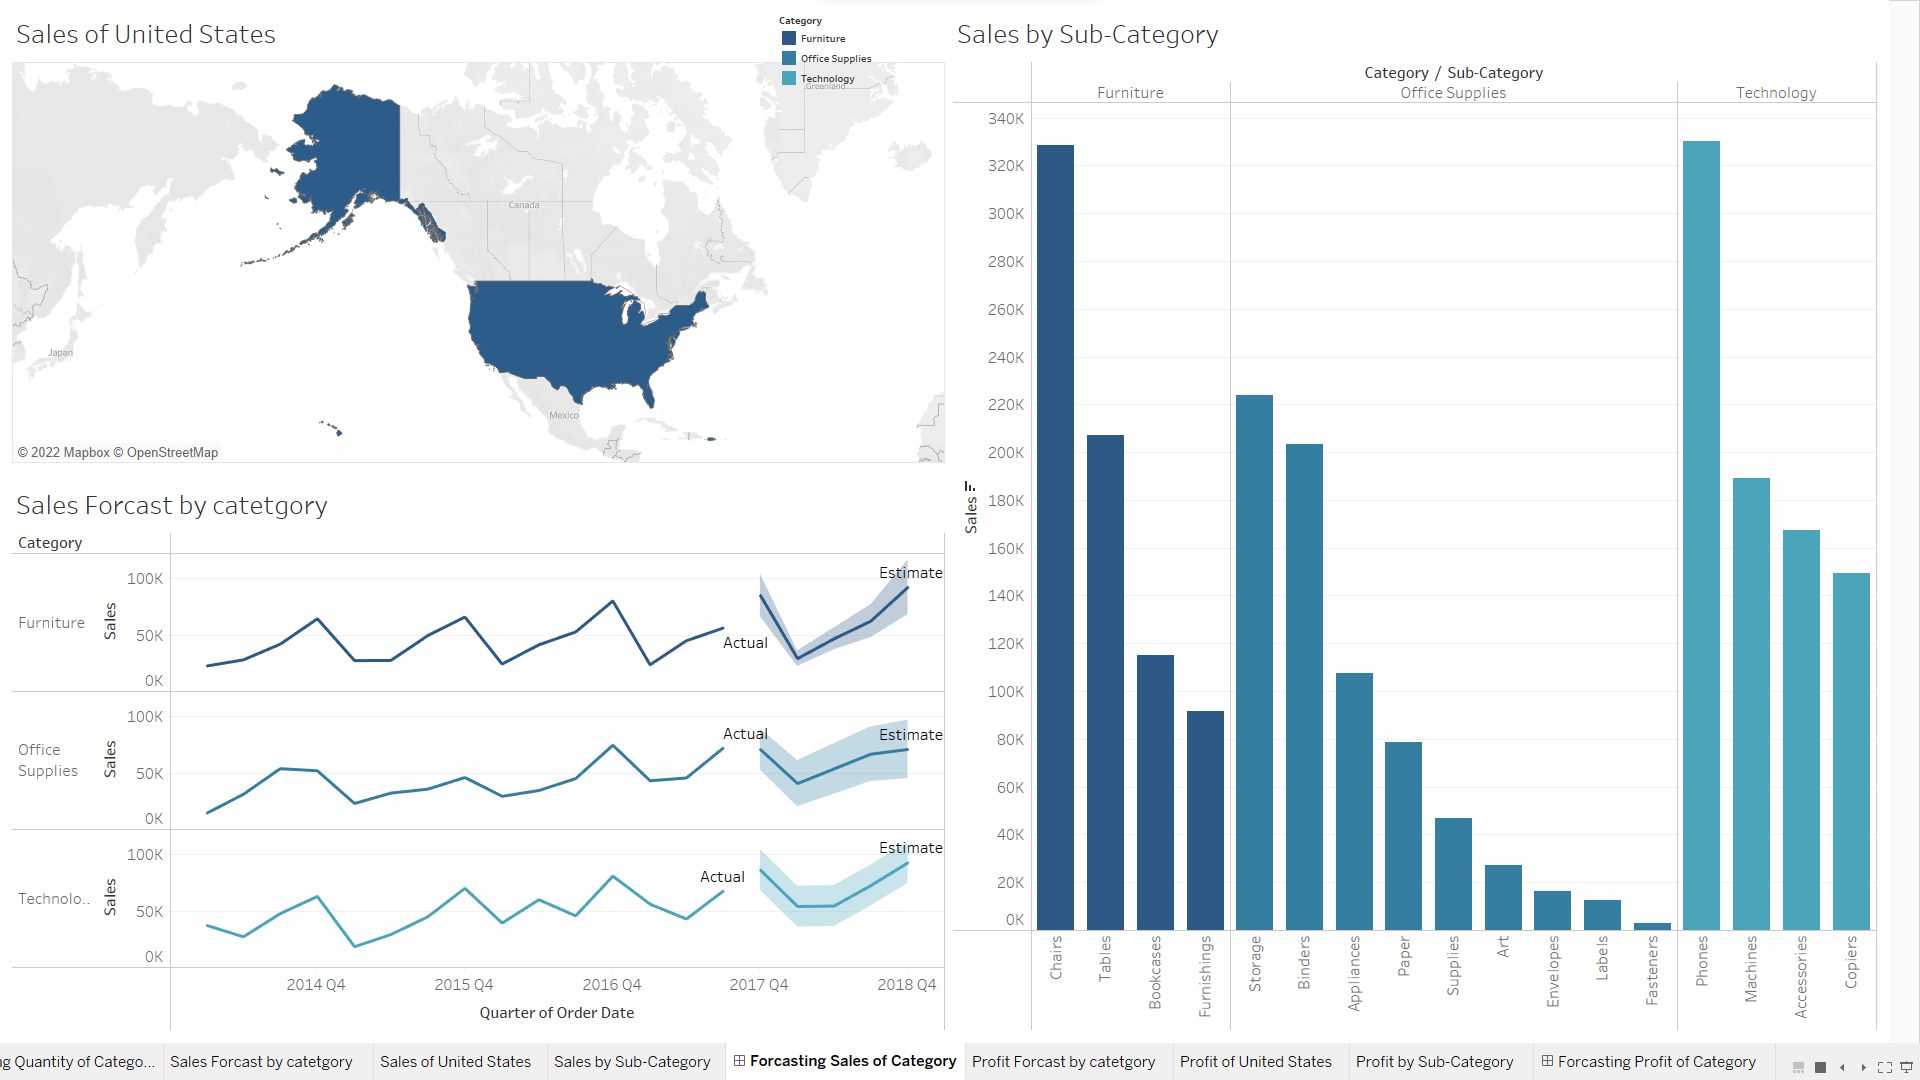

The page's visual inventory and layout, read from the dashboard file:
{"tool":"tableau","page":{"name":"Forcasting Sales of Category","canvas":[1000,1000],"units":"permille","ordinal":4},"visuals":[{"type":"worksheet","title":"Sales of United States","mark":"Automatic","box":[4.9,9.4,497.3,450.1]},{"type":"worksheet","title":"Sales by Sub-Category","mark":"Automatic","rows":["Sales"],"cols":["Category","Sub-Category"],"box":[502.2,9.4,492.9,981.2]},{"type":"legend","title":"Sales Forcast by catetgory ","param":"[federated.1t0746c1y66k571a7qr960tc11w9].[none:Category:nk]","box":[412.2,12.9,86.9,97.5]},{"type":"worksheet","title":"Sales Forcast by catetgory ","mark":"Automatic","rows":["Category","Sales"],"cols":["Order Date"],"box":[4.9,459.5,497.3,531.1]}]}

Visuals, with their boxes on the dashboard's canvas, which has no fixed pixel size, in thousandths of its width and height (x1, y1, x2, y2). These are canvas units, not pixel positions in the 1920x1080 screenshot, which may show the page scaled, cropped or inside an application window:
"Sales of United States" worksheet: bbox(5, 9, 502, 460)
"Sales by Sub-Category" worksheet: bbox(502, 9, 995, 991)
"Sales Forcast by catetgory " legend: bbox(412, 13, 499, 110)
"Sales Forcast by catetgory " worksheet: bbox(5, 460, 502, 991)
